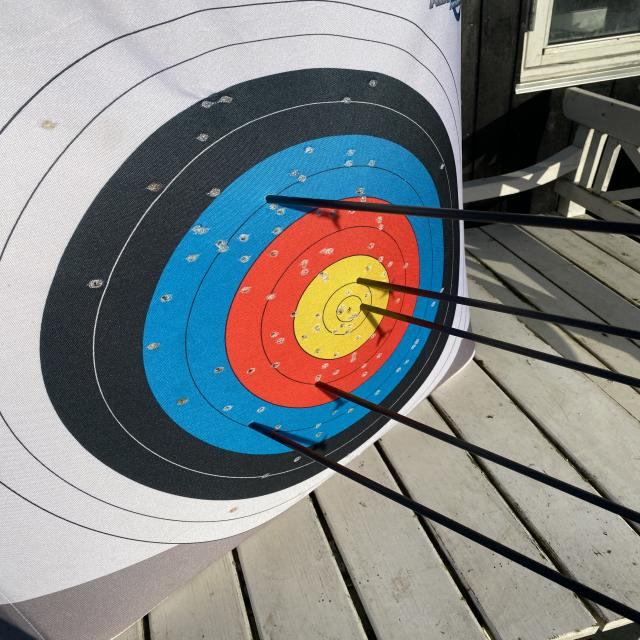Arrow_Blue: (253, 184, 293, 215), (233, 413, 270, 439)
Arrow_Red: (304, 370, 339, 402)
Arrow_Yellow: (348, 294, 379, 316), (349, 268, 376, 290)
